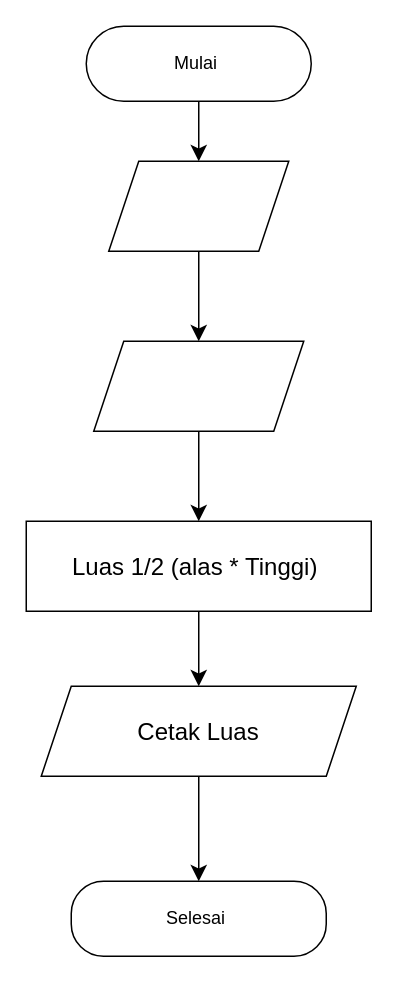
This 398x983 diagram has some shape labels left out. The shapes that lost their labels are listed below. From the top down, each one's centre as x and y in pixels, then its label:
the point at 198,205: input Alas
the point at 198,385: input Tinggi
